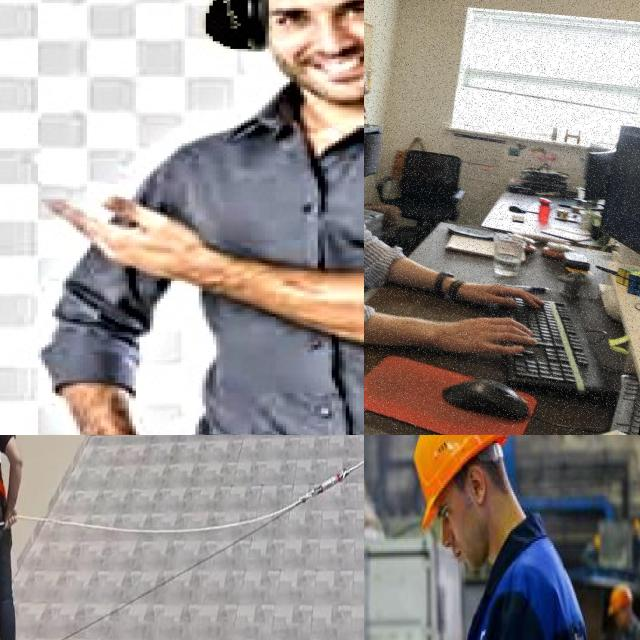Ear-protection: (163, 0, 364, 69)
Harness: (21, 459, 364, 536)
No_Ear-Protection: (465, 473, 495, 518)
No_Glasses: (438, 490, 455, 521)
face_nomask: (442, 526, 489, 571)
head_helmet: (414, 435, 509, 528), (608, 584, 632, 616)
